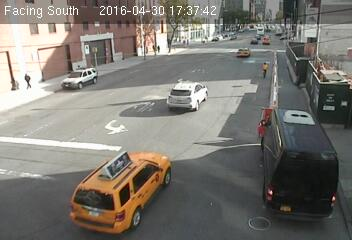neg: (277, 28, 301, 60), (308, 28, 330, 57), (208, 25, 228, 52), (182, 34, 196, 53), (106, 39, 118, 55), (127, 32, 139, 46), (266, 28, 277, 43), (69, 61, 79, 75), (89, 41, 98, 53)
pos: (259, 61, 273, 80), (18, 71, 31, 88), (149, 43, 158, 55), (156, 43, 164, 54)
